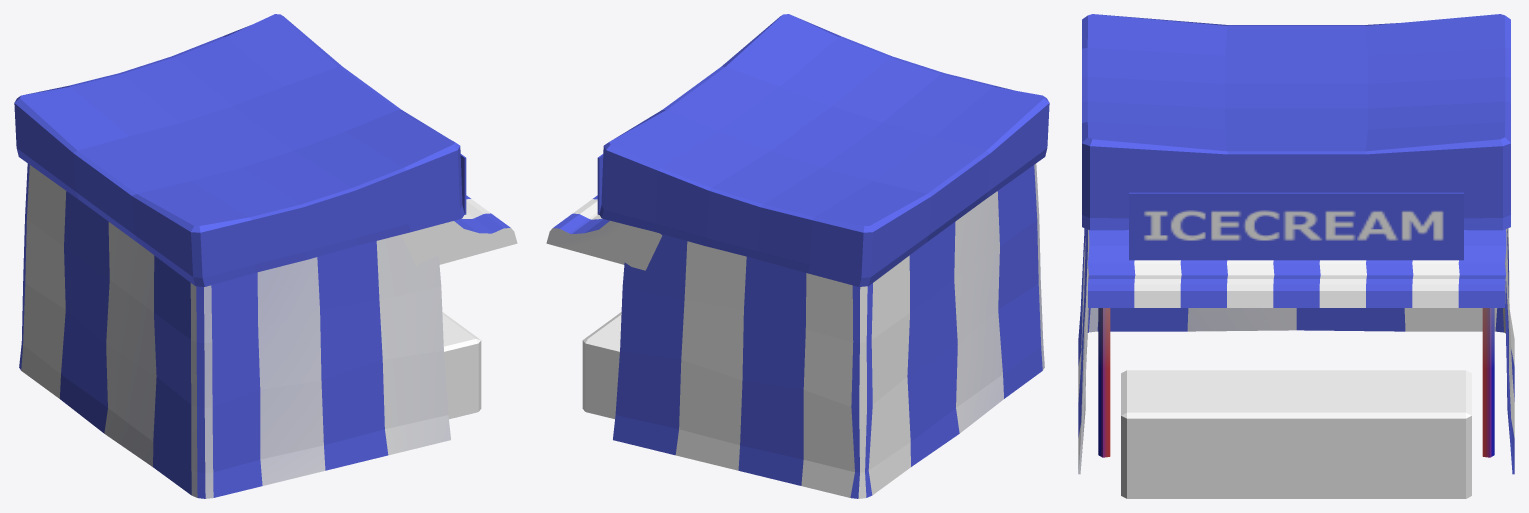
The model's file is rowyatai4.fbx.
3 views of the same model, side by side, from view 1: azimuth 30°, elevation 25°; view 2: azimuth 150°, elevation 25°; view 3: azimuth 270°, elevation 25° (orthographic). The views are drawn at different scales.
Parts seen in each view (by area): view 1: 立方体, Cube, 立方体.001; view 2: 立方体, Cube, 立方体.001; view 3: Cube, 立方体.001, 立方体, 円柱.
Part boxes in pixels (left/top/right/bottom): 立方体: left=19, top=154, right=466, bottom=498; Cube: left=14, top=14, right=517, bottom=286; 立方体.001: left=442, top=312, right=481, bottom=419; 立方体: left=597, top=154, right=1044, bottom=498; Cube: left=546, top=14, right=1049, bottom=286; 立方体.001: left=582, top=312, right=621, bottom=419; Cube: left=1082, top=14, right=1510, bottom=307; 立方体.001: left=1121, top=370, right=1471, bottom=498; 立方体: left=1078, top=192, right=1514, bottom=474; 円柱: left=1098, top=308, right=1494, bottom=457.
Size of the model in its own units: 133 by 114 by 132.
